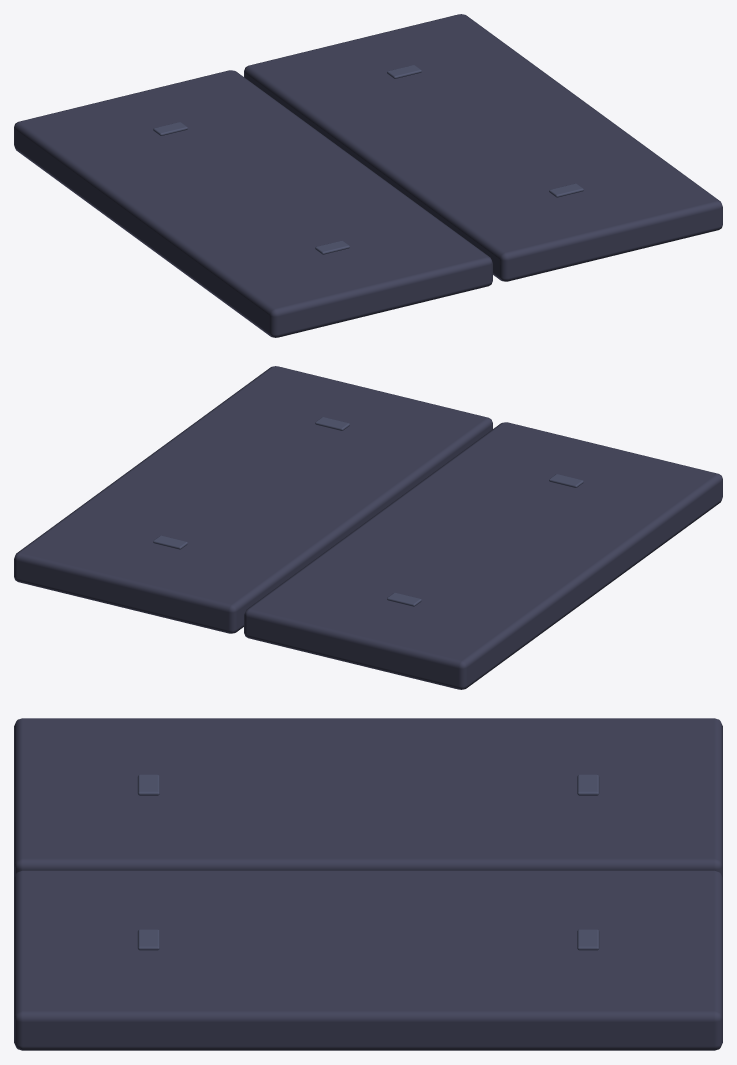
The model's file is floor.strips.glb.
The picture shows the model from 3 angles, top to bottom: view 1: azimuth 30°, elevation 25°; view 2: azimuth 150°, elevation 25°; view 3: azimuth 270°, elevation 25°; orthographic projection. The views are drawn at different scales.
Visible parts, largest first — view 1: floor.strips; view 2: floor.strips; view 3: floor.strips.
Boxes of the visible parts, x1,y1,x2,y2 form: floor.strips: (14, 14, 722, 337); floor.strips: (14, 366, 722, 689); floor.strips: (14, 718, 722, 1050).
Size of the model in its own units: 0.968 by 0.066 by 0.968.
